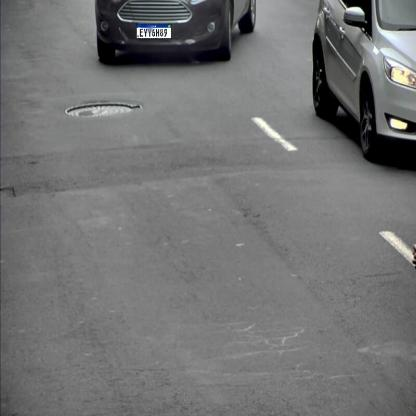PlacaM: (136, 23, 172, 39)
